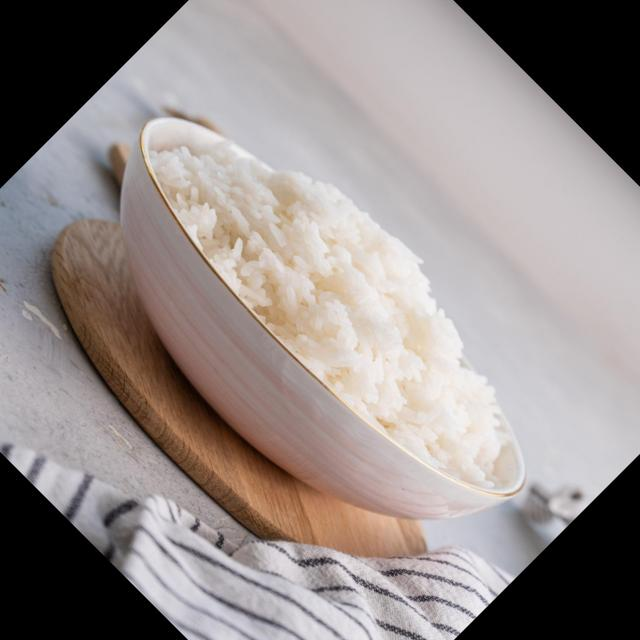rice: (145, 140, 505, 481)
